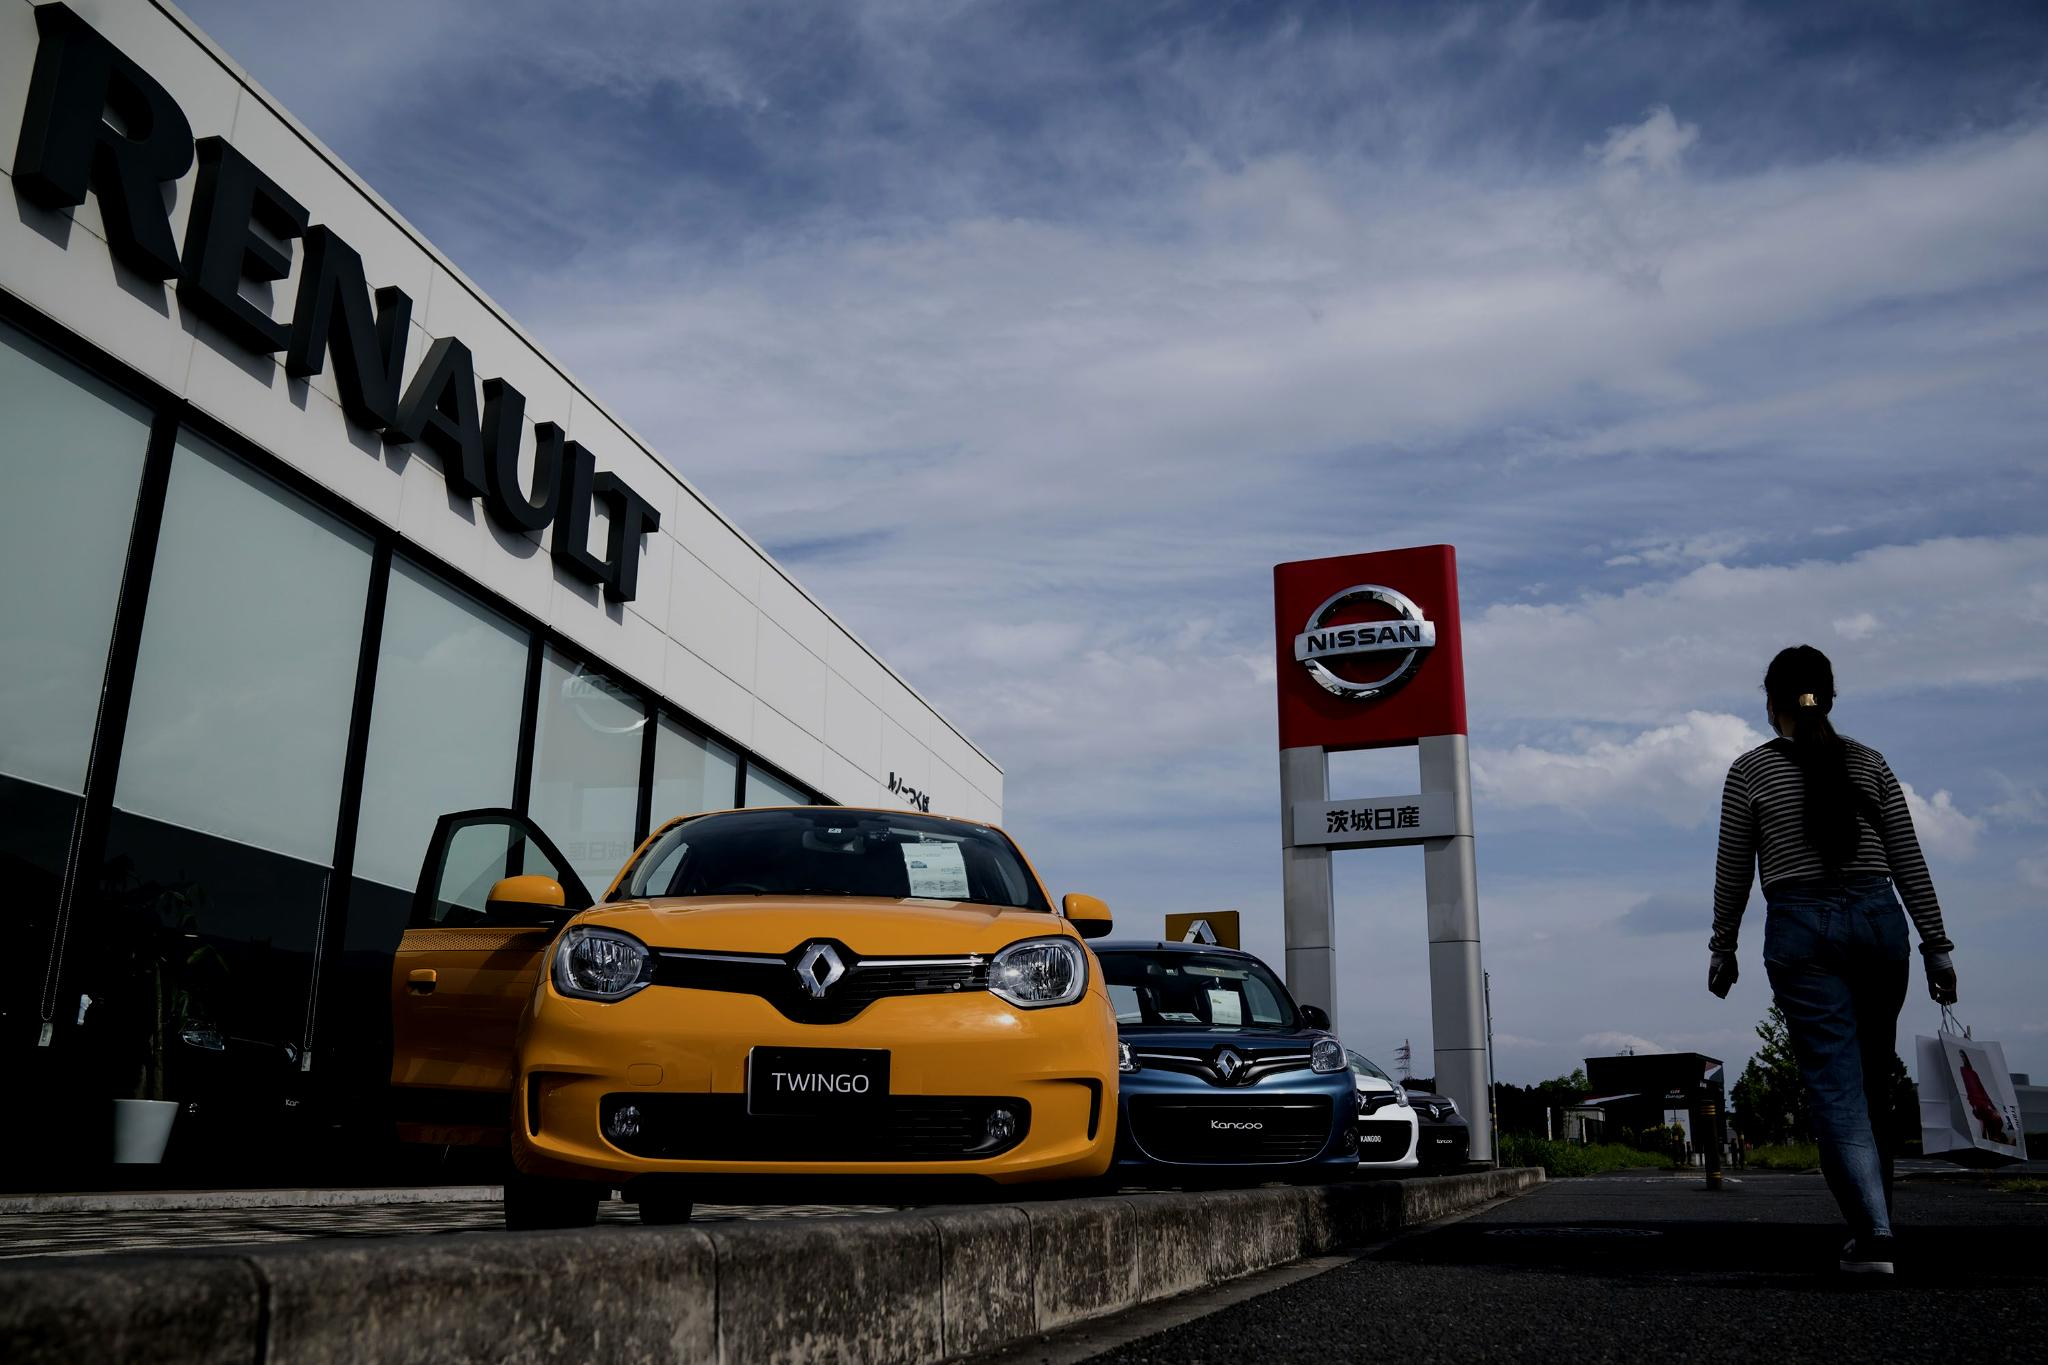Nissan: (1281, 568, 1450, 731)
Renault: (786, 934, 862, 1007), (1212, 1047, 1249, 1086), (1425, 1100, 1443, 1123)
